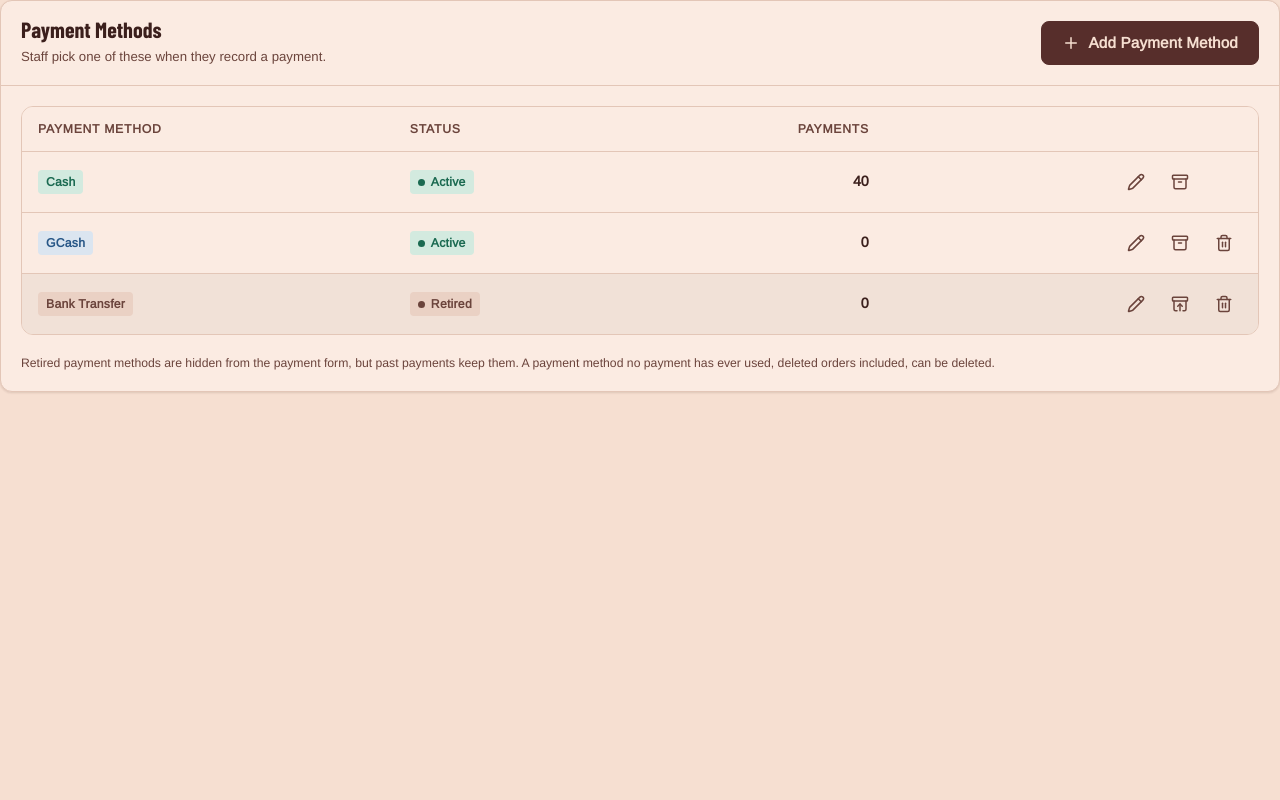
S1 list card: payment-methods › deletes a never-used entry after a confirmation in the list words
The width and height of the screenshot is (1280, 800).
Expected: the table named "Payment methods" is shown, left=22, top=107, right=1258, bottom=334
Click the button named "Delete GCash" at (1224, 243), box left=1206, top=225, right=1242, bottom=261
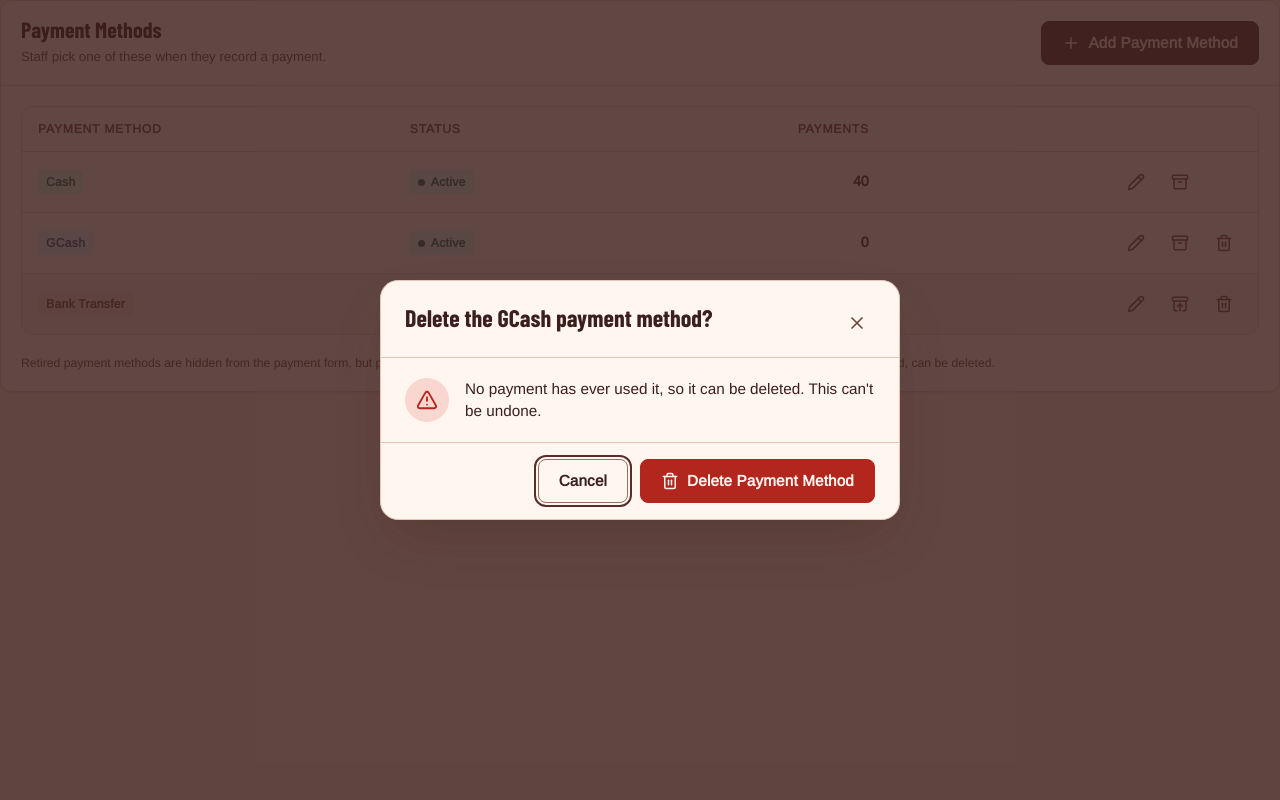
Click the button "Delete Payment Method" at (758, 481), box left=640, top=459, right=875, bottom=503
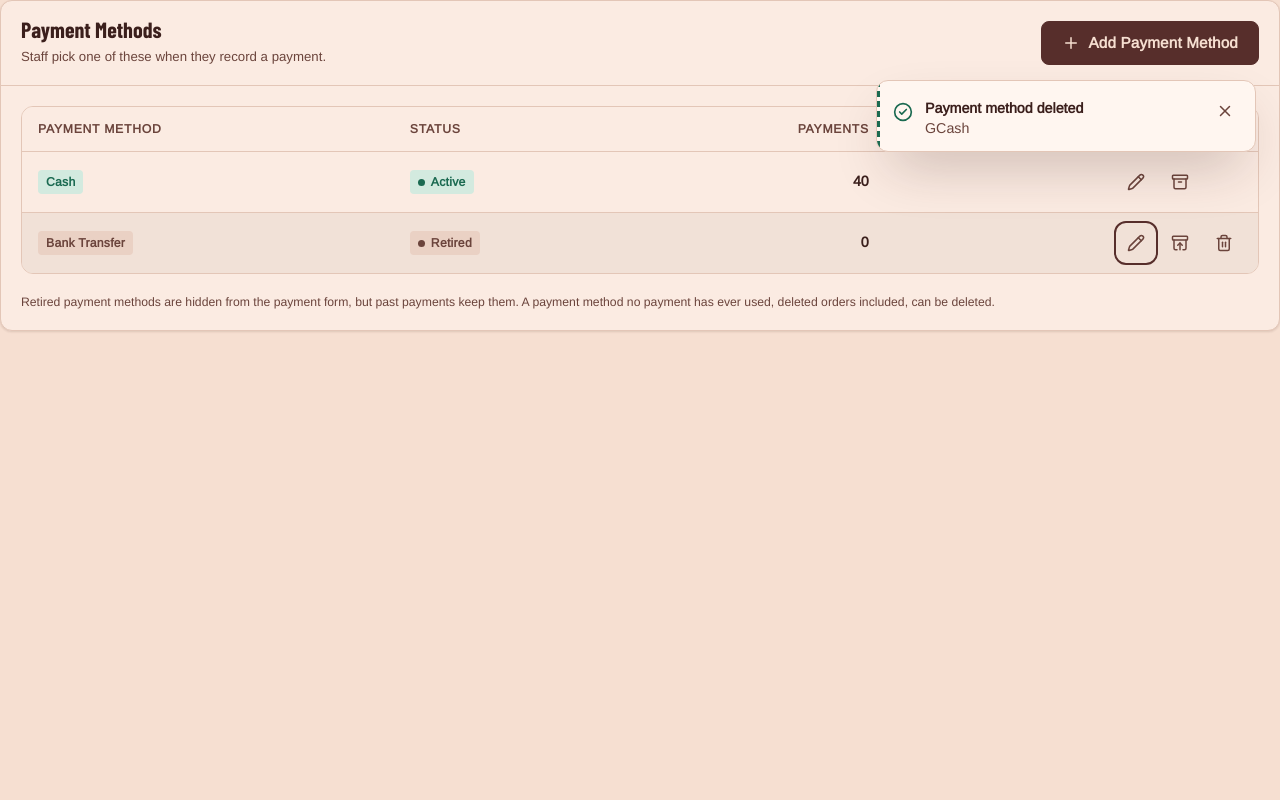
Now the text "Payment method deleted" is shown, box left=925, top=101, right=1083, bottom=116
